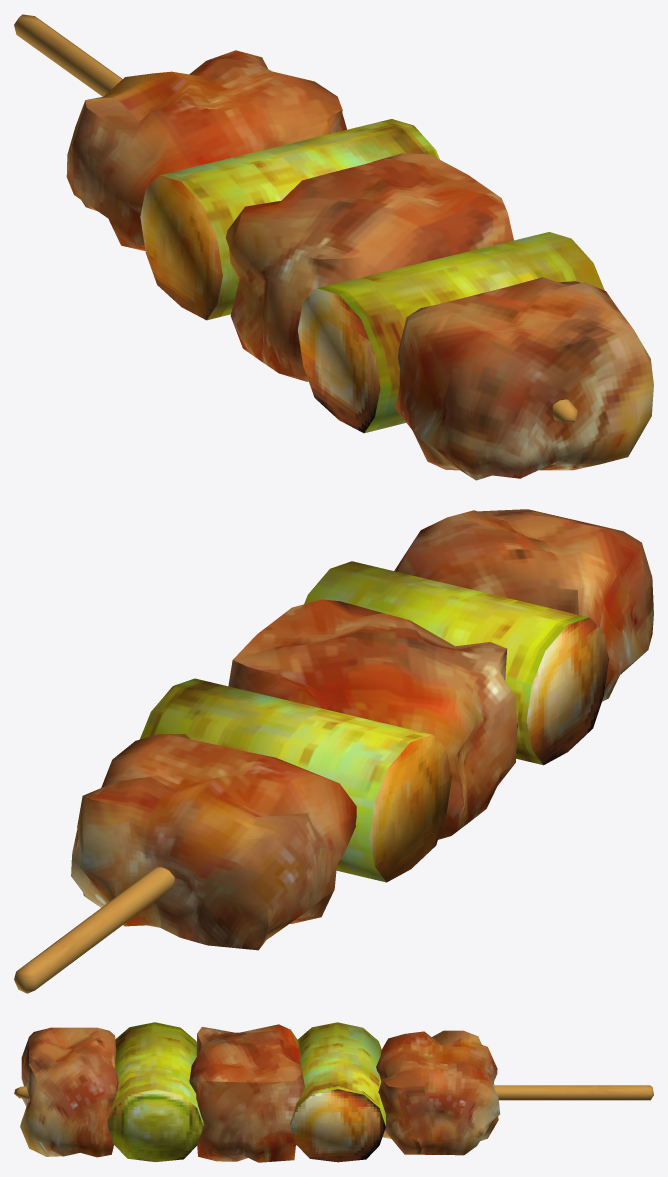
Rendered from ref_bbqskewers1.glb.
3 views of the same model, one above another, from view 1: azimuth 30°, elevation 25°; view 2: azimuth 150°, elevation 25°; view 3: azimuth 270°, elevation 25° (orthographic). The views are drawn at different scales.
Visible parts, largest first — view 1: ref_bbqskewers1; view 2: ref_bbqskewers1; view 3: ref_bbqskewers1.
Boxes of the visible parts, x1,y1,x2,y2 form: ref_bbqskewers1: [14, 14, 653, 480]; ref_bbqskewers1: [14, 509, 653, 993]; ref_bbqskewers1: [14, 1022, 653, 1162].
Bounding box in the file's own units: 0.2495 × 0.1728 × 1.
Materials: 1 (1 with a texture image).
